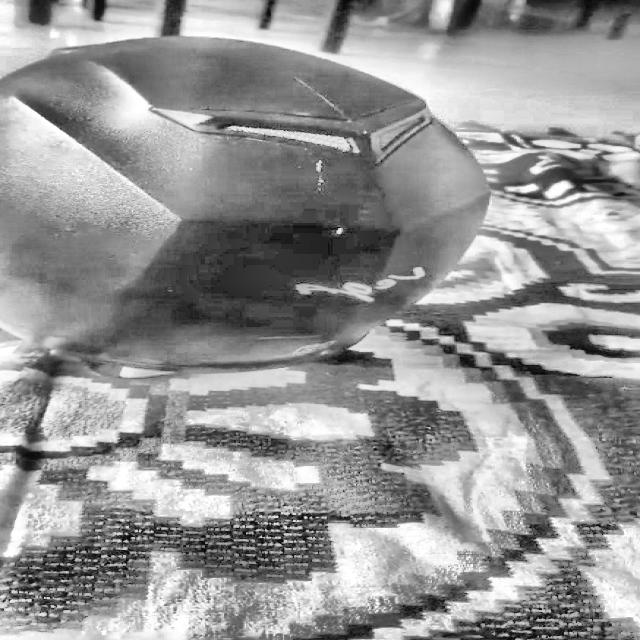Helmet: (0, 33, 521, 372)
